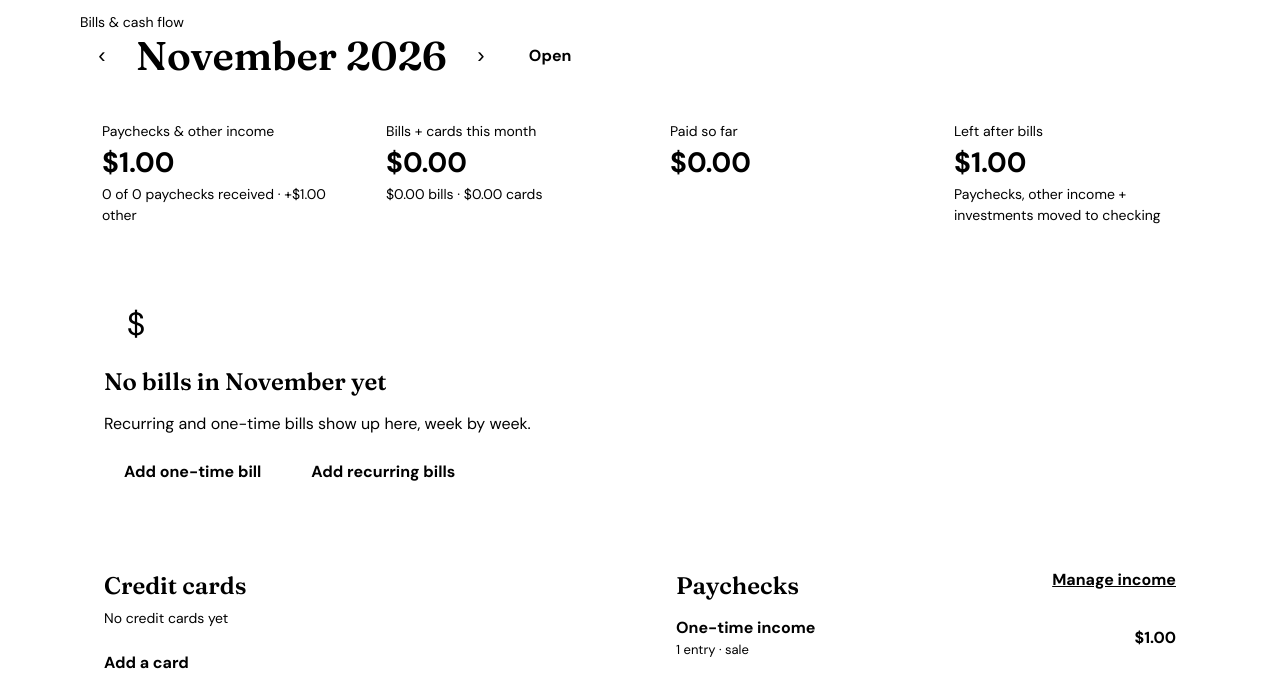
it: P2-07 credit cards on Bills › offers to add a card when there are none
This screenshot has width=1280, height=688.
Check: the element "Credit cards" shows "No credit cards yet", box left=104, top=609, right=228, bottom=627
Click the button "Add a card" at (146, 663), box left=104, top=641, right=189, bottom=685
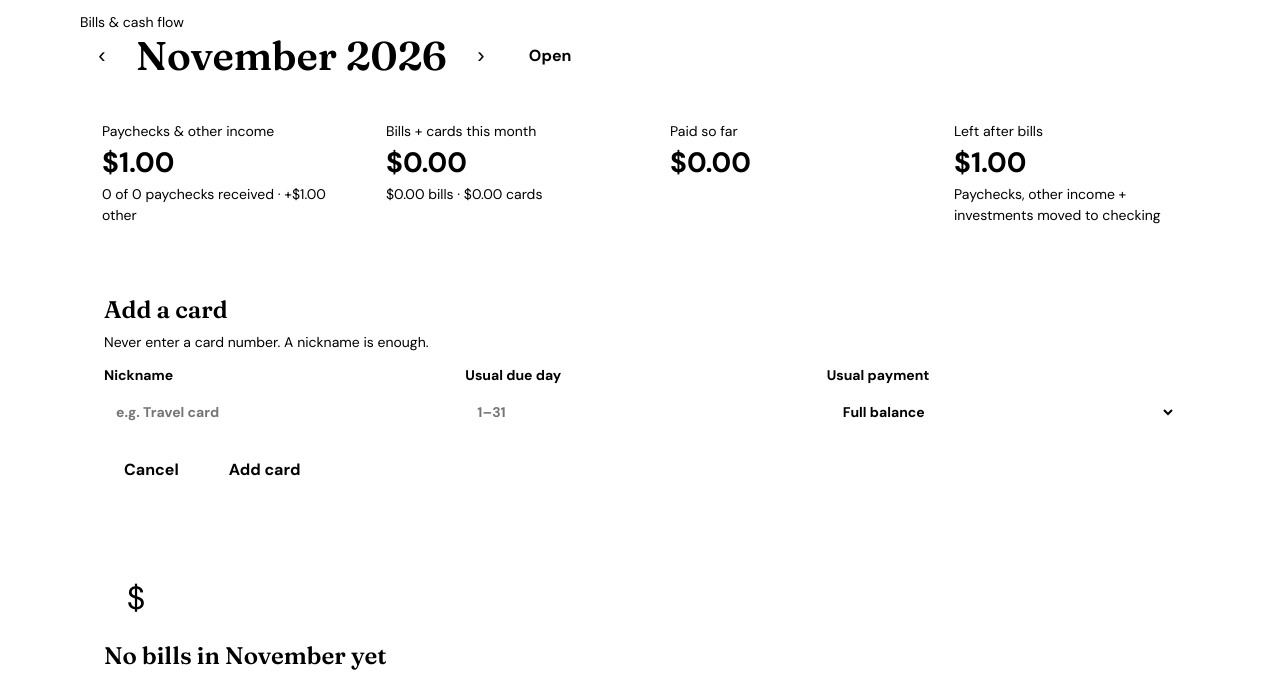
Type "Gas card" into the field labelled "Nickname" at (279, 412), box left=104, top=390, right=453, bottom=434
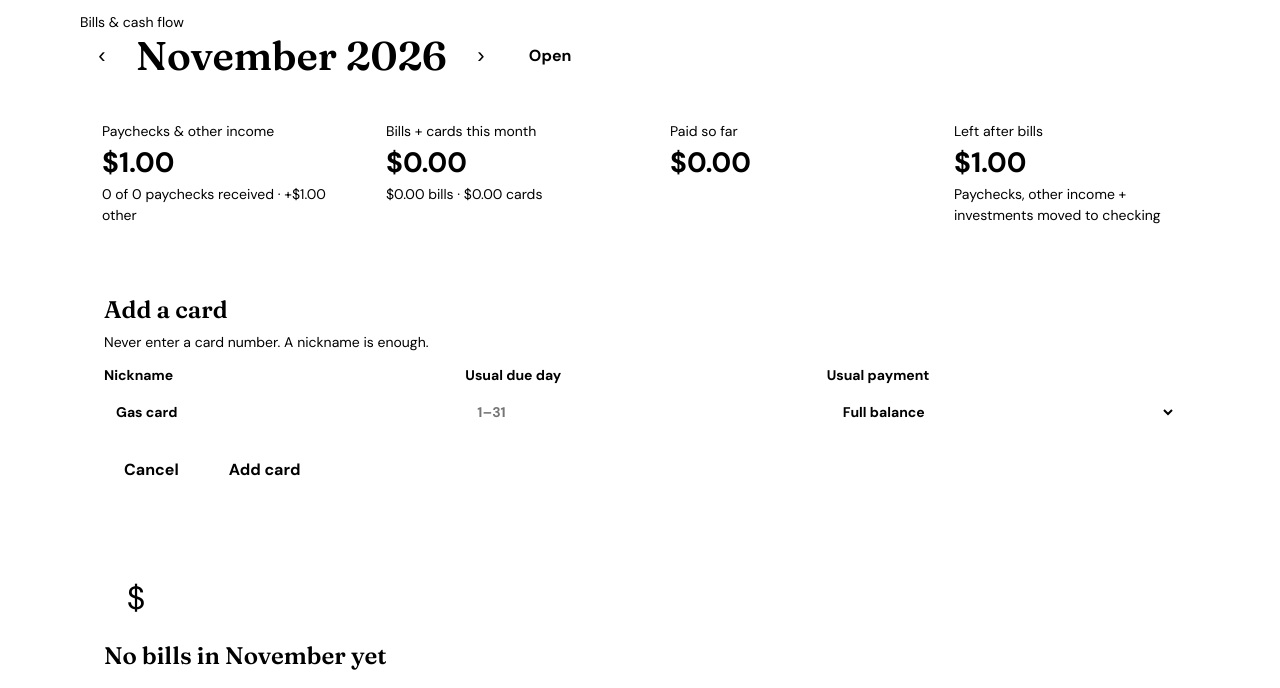
Type "27" into the field labelled "Usual due day" at (640, 412), box left=465, top=390, right=815, bottom=434
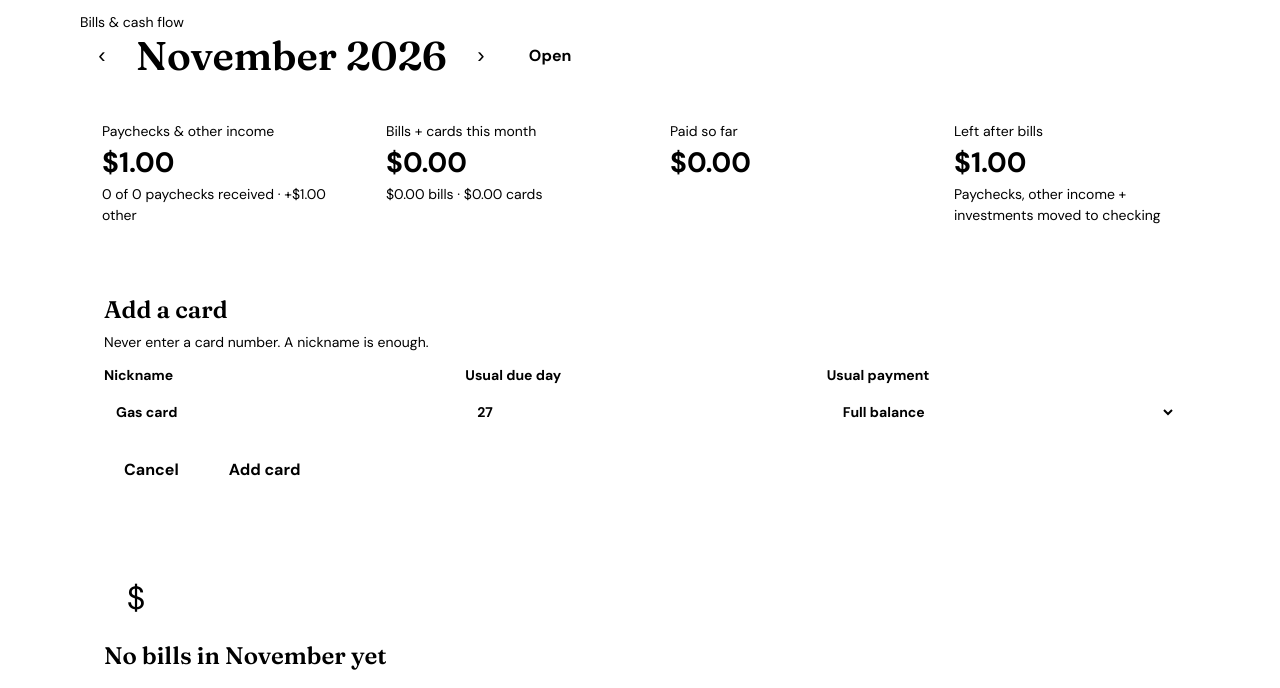
Click the button "Add card" at (265, 470), box left=209, top=446, right=320, bottom=494
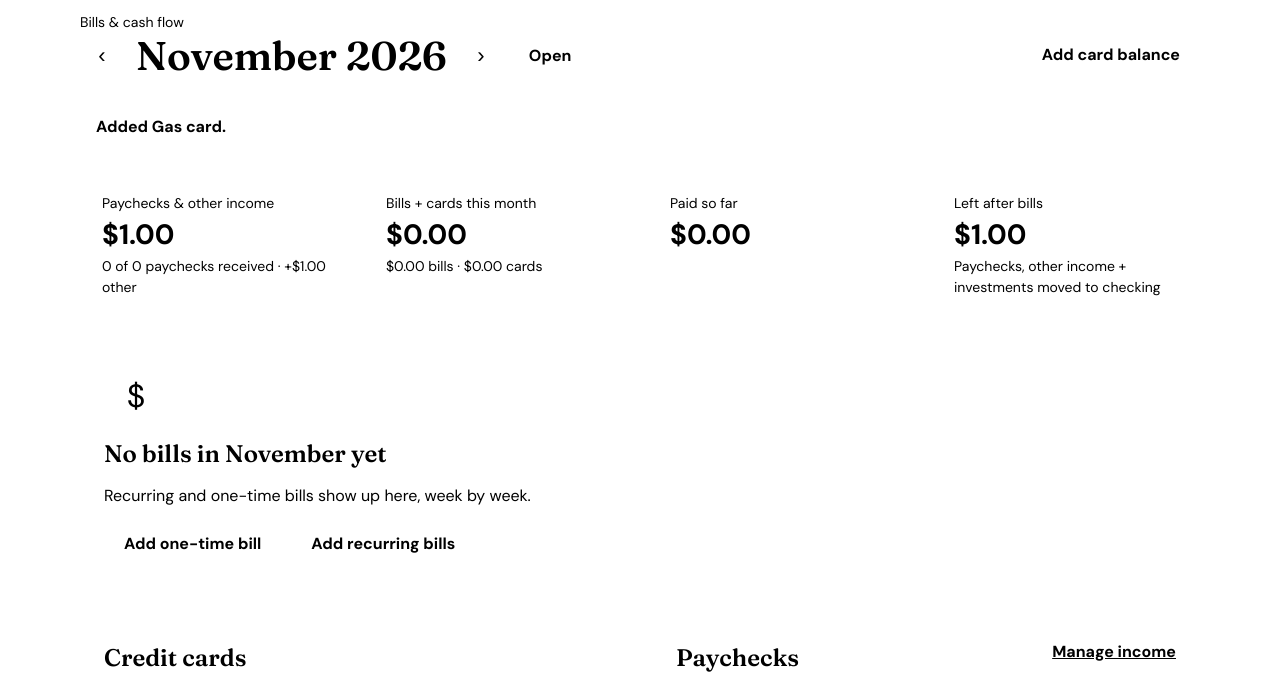
Check: the message reads "Added Gas card.", box left=96, top=116, right=226, bottom=137
